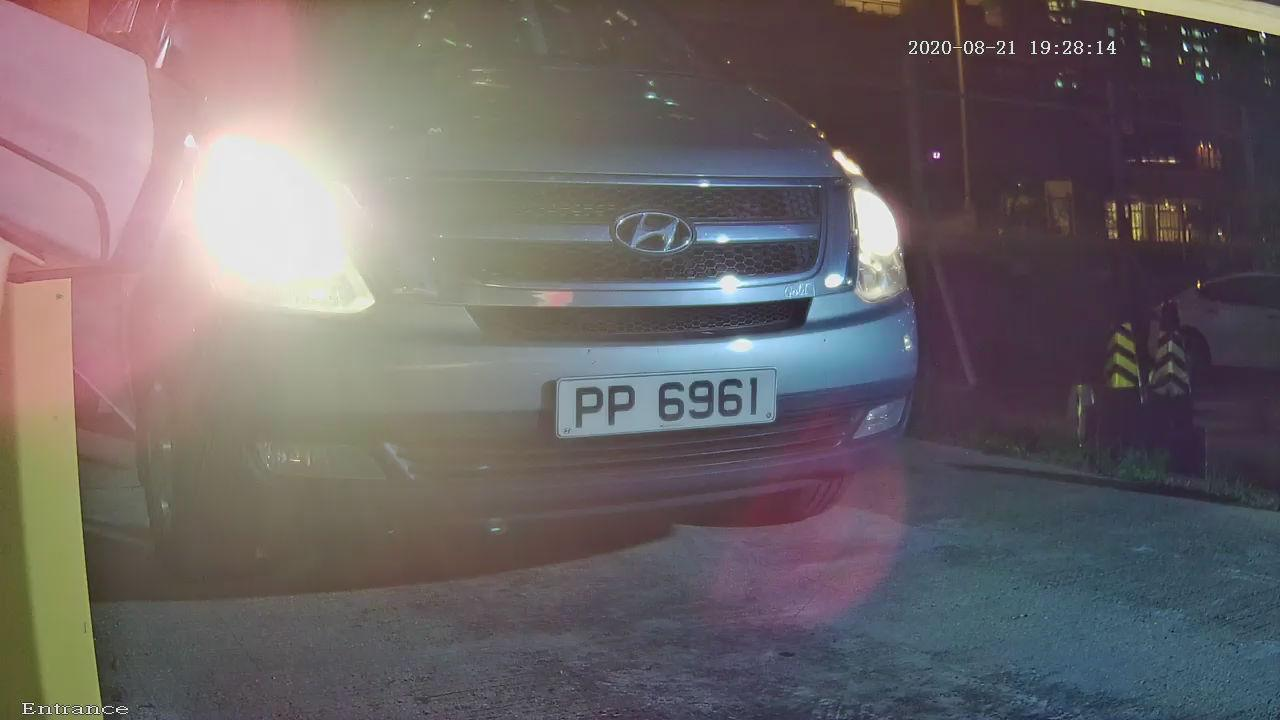Car: (1, 4, 1035, 595)
License Plate: (526, 361, 789, 447)
